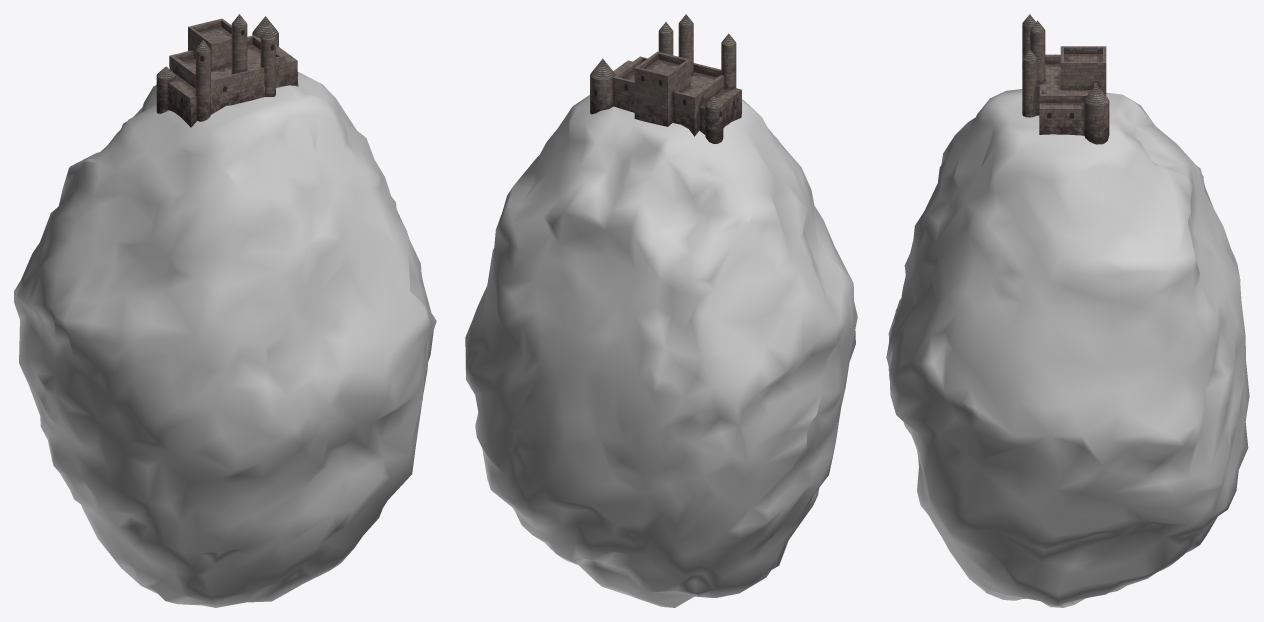
File: obj_PyreneesRockZiriax_Lightmap.gltf
3 views of the same model, side by side, from view 1: azimuth 30°, elevation 25°; view 2: azimuth 150°, elevation 25°; view 3: azimuth 270°, elevation 25° (orthographic). The views are drawn at different scales.
Parts seen in each view (by area): view 1: obj_PyreneesRockShape; view 2: obj_PyreneesRockShape; view 3: obj_PyreneesRockShape.
Part boxes in pixels (bbox=[...]): obj_PyreneesRockShape: bbox=[14, 14, 436, 607]; obj_PyreneesRockShape: bbox=[465, 14, 857, 607]; obj_PyreneesRockShape: bbox=[886, 14, 1249, 607].
Size of the model in its own units: 353 by 550 by 317.
